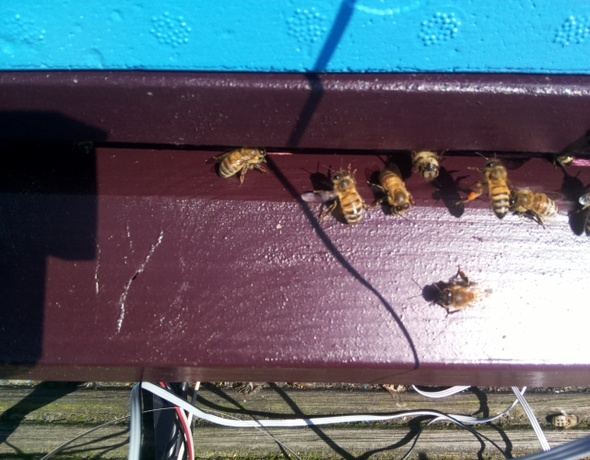no_pollen: (502, 183, 563, 226), (325, 166, 367, 227), (373, 167, 414, 218), (217, 144, 269, 182), (426, 279, 482, 314), (411, 148, 444, 185), (550, 148, 583, 175)
pollen: (459, 150, 515, 223)
